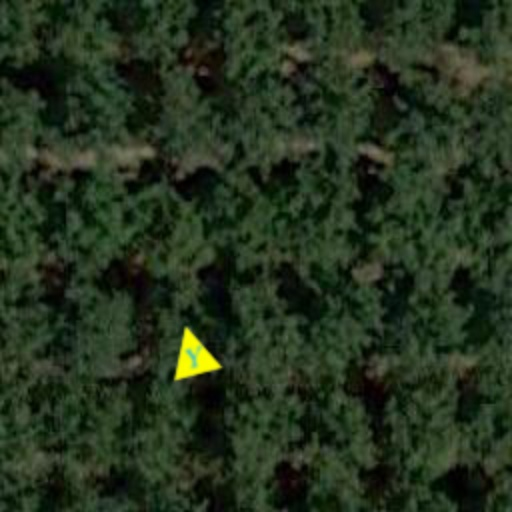triangle: (160, 318, 224, 382)
